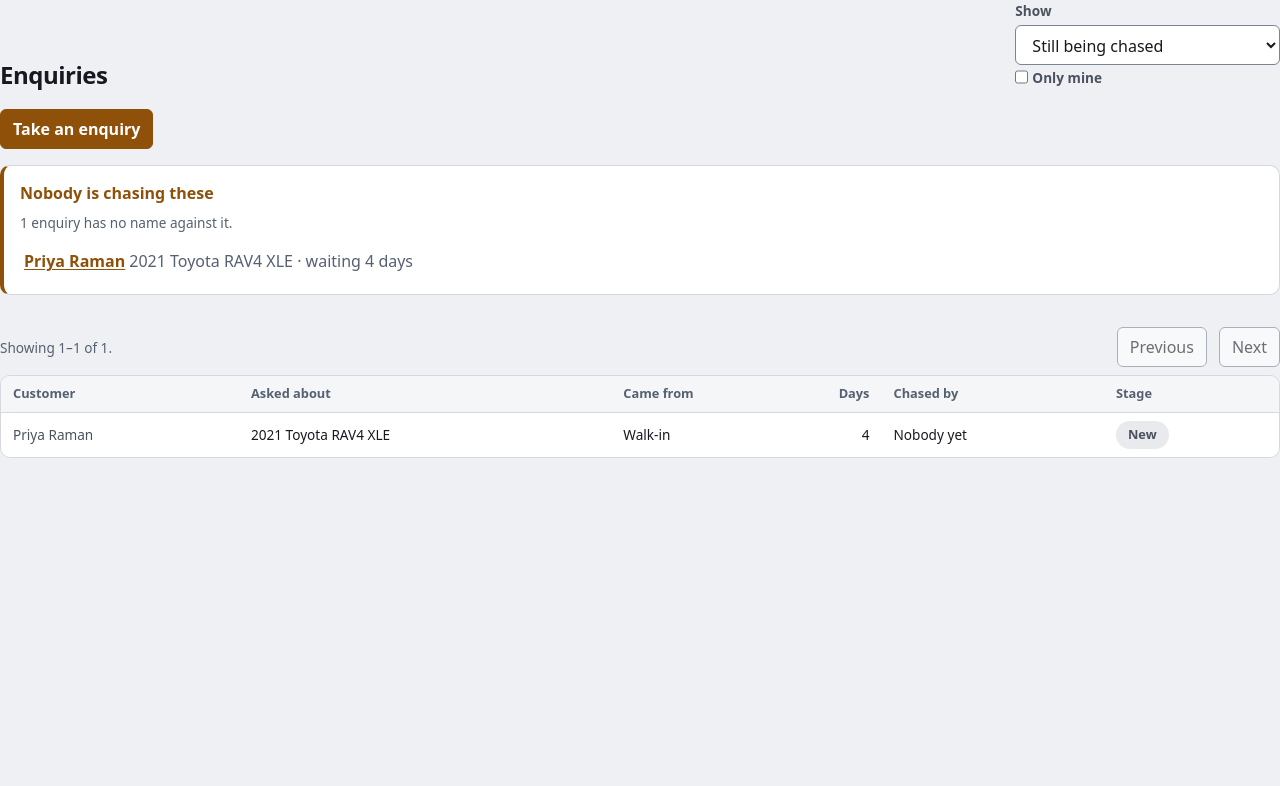
one enquiry › claims an unassigned enquiry, and hands it back
The image size is (1280, 786).
Expected: the table is shown, 1,376 -> 1279,457
Click the button "Priya Raman" in the row of "Walk-in" at (120, 435), box 13,423 -> 227,447
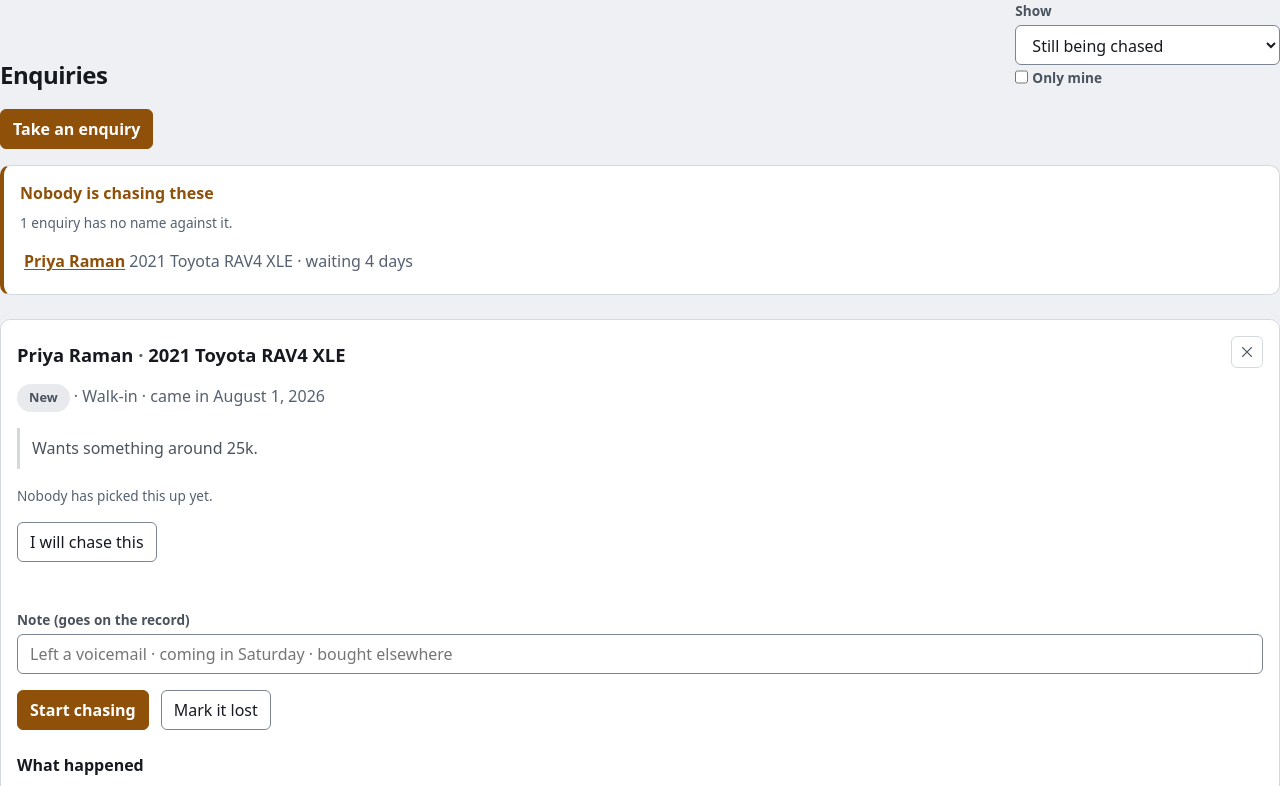
Click the button "I will chase this" at (87, 542), box 17,522 -> 157,562
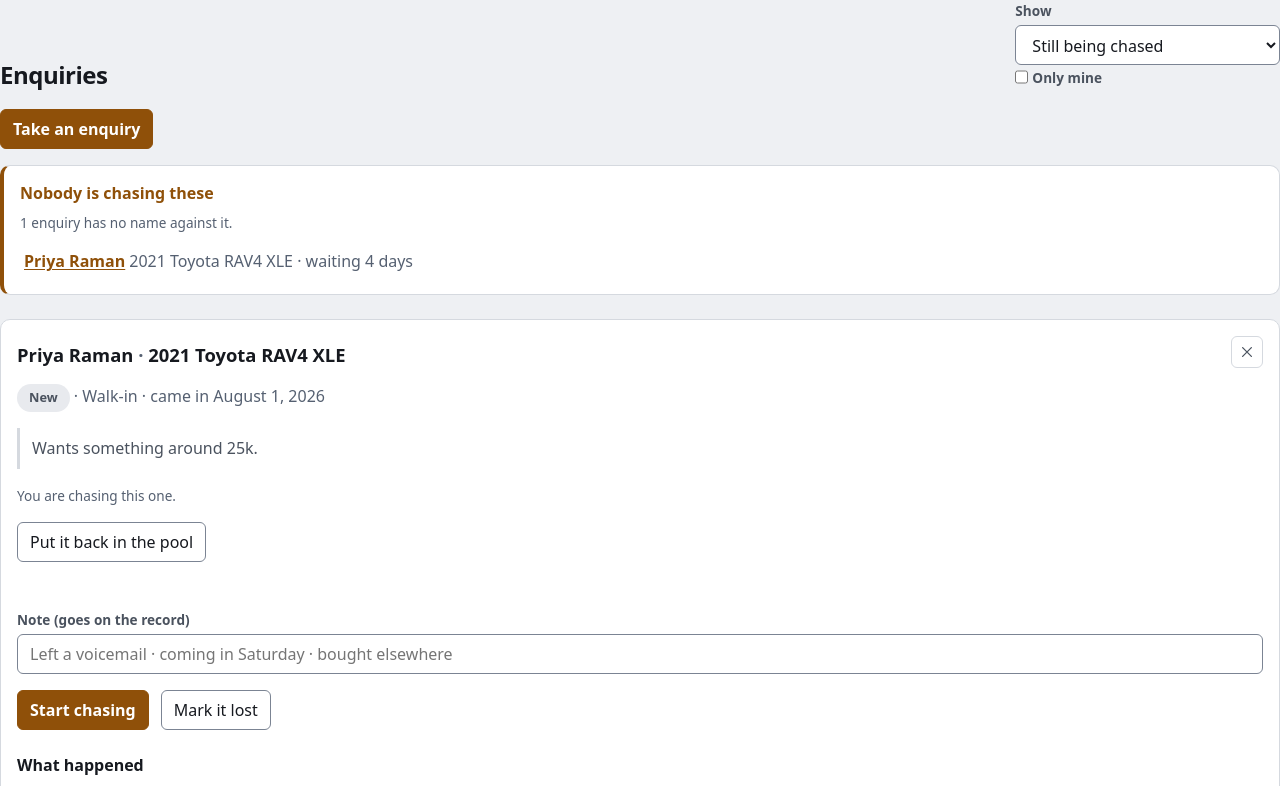
Result: the text "You are chasing this one." is shown at 17,486 -> 176,505
Result: the button "Put it back in the pool" is shown at 17,522 -> 206,562
